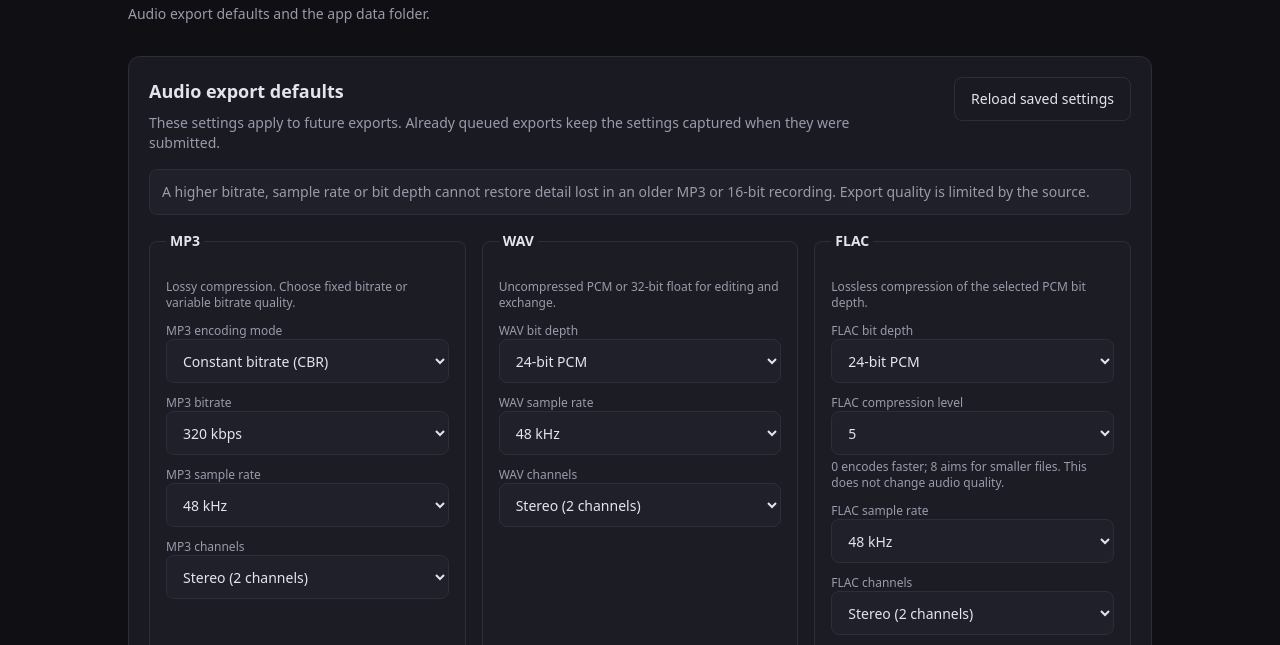
Test: saves a captured backend-validated encoding draft and reports completion
Select "192 kbps" in the dropdown labelled "MP3 bitrate": (307, 433) [166,411,449,455]
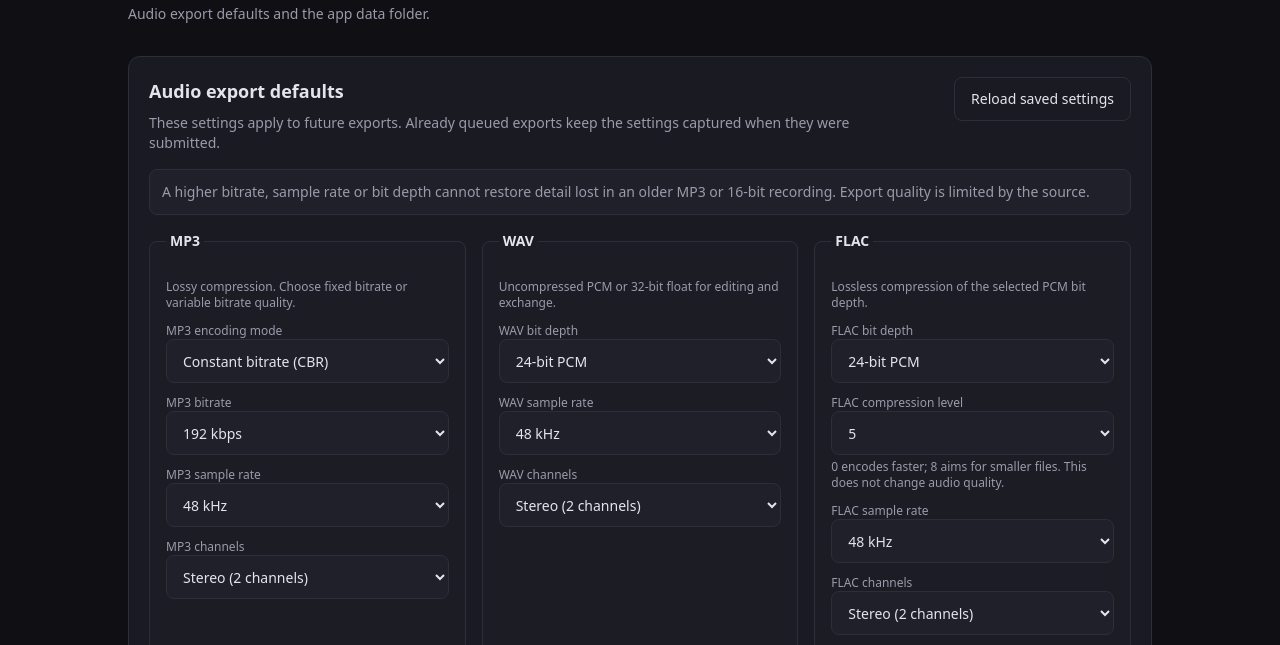
Select "32-bit float" in the dropdown labelled "WAV bit depth": (640, 361) [499,339,781,383]
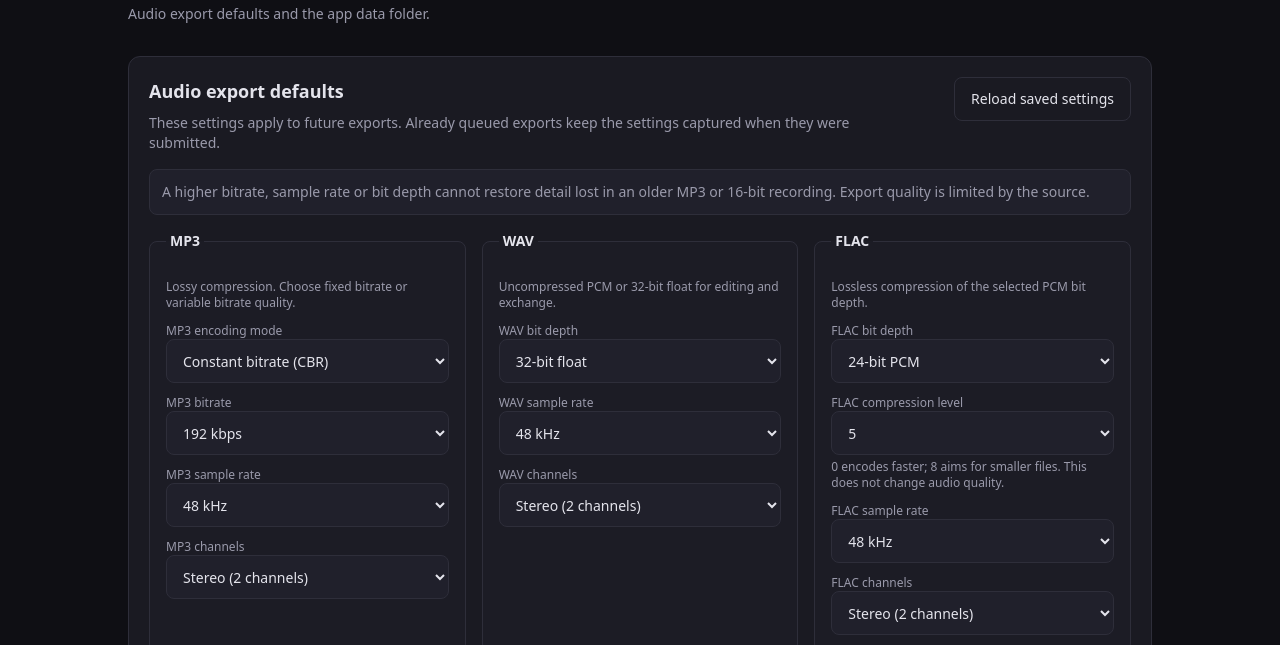
Select "8" in the dropdown named "FLAC compression level": (973, 433) [831,411,1114,455]
(page scrolled)
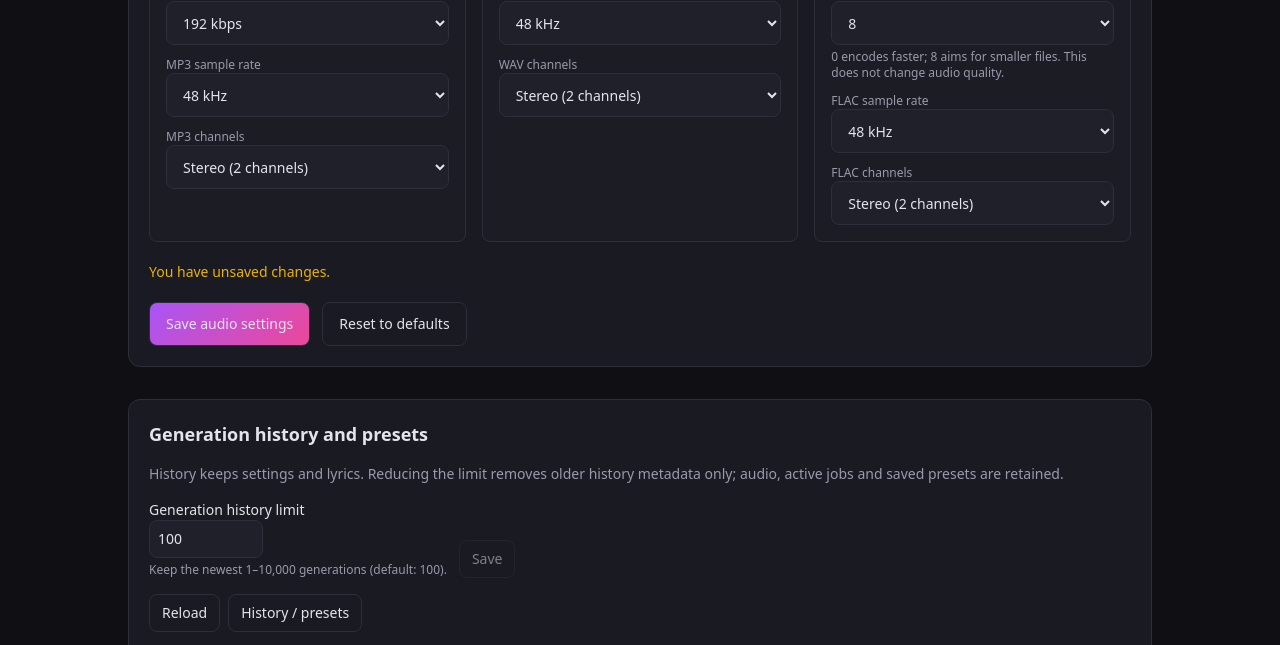
Click the button "Save audio settings": (230, 324) [149,302,310,346]
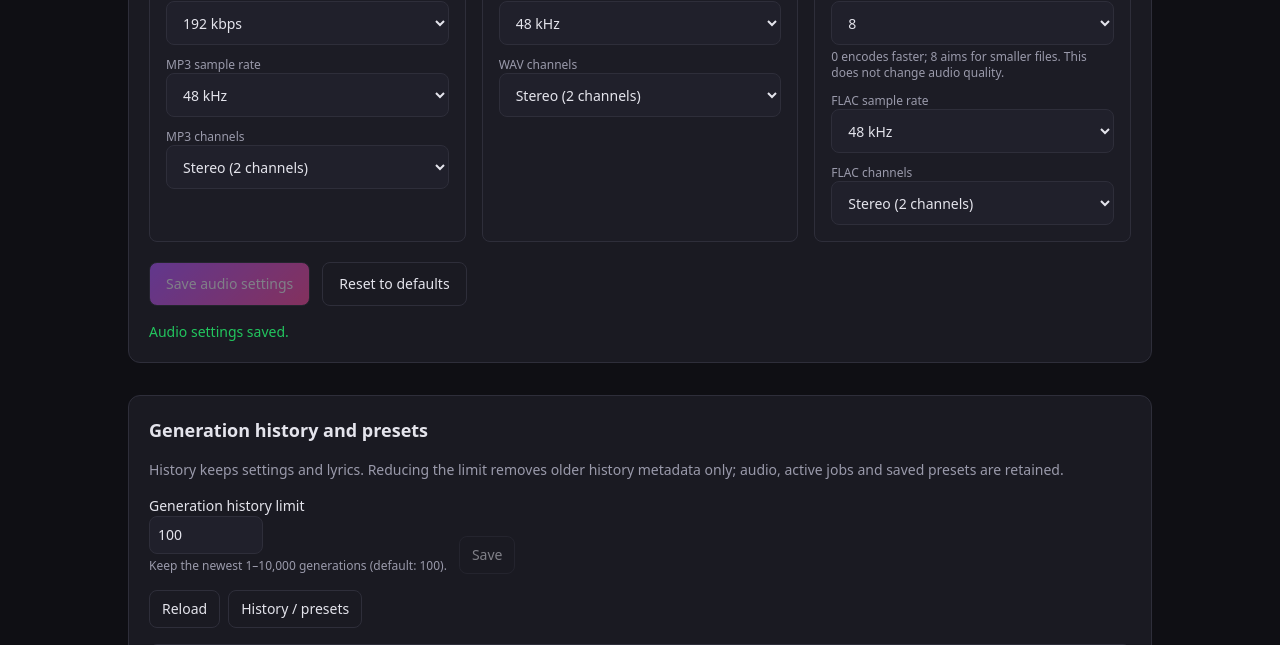
Expected: the text "Audio settings saved" is shown, [149,322,289,341]
Expected: the button "Save audio settings" is disabled, [149,262,310,306]
